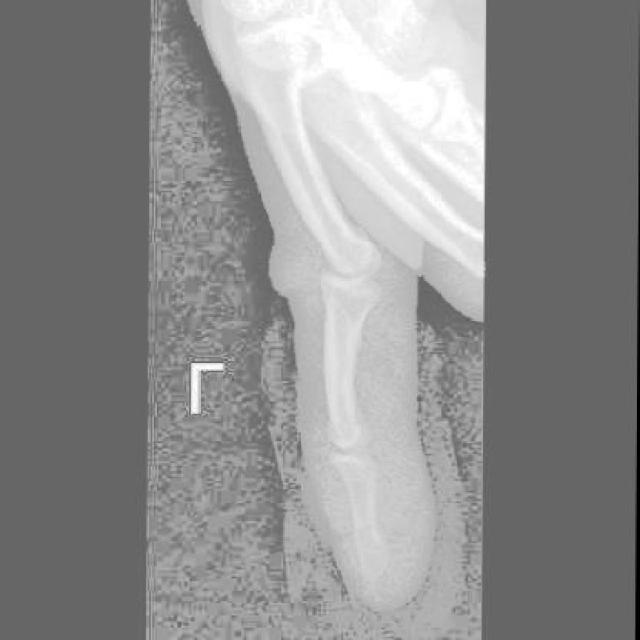Fracture: (342, 517, 404, 585)
